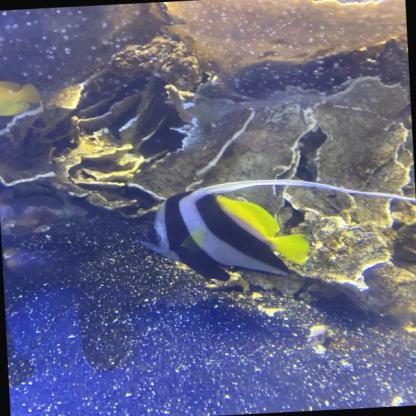fish: (136, 182, 312, 284)
